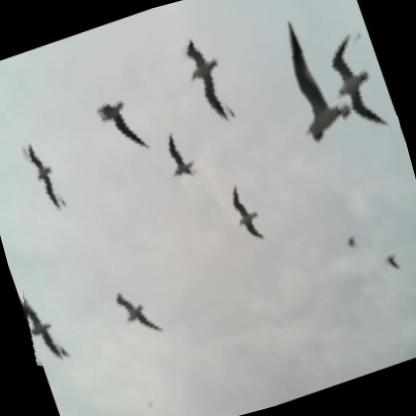bird: (267, 1, 358, 158), (312, 24, 399, 148), (166, 22, 244, 134), (87, 81, 157, 171), (12, 131, 72, 218), (105, 271, 166, 354), (15, 280, 71, 369), (217, 173, 271, 255), (153, 125, 202, 188), (381, 249, 404, 275), (343, 230, 362, 251)
